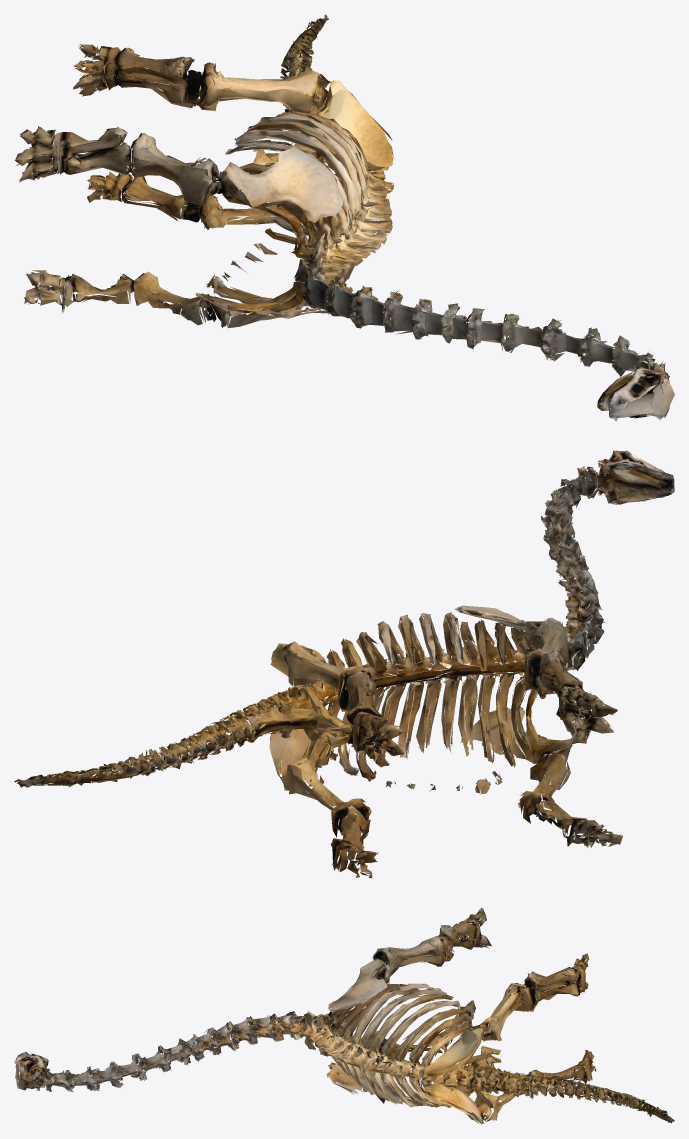
Rendered from dino_fossil.glb.
The picture shows the model from 3 angles, top to bottom: view 1: azimuth 30°, elevation 25°; view 2: azimuth 150°, elevation 25°; view 3: azimuth 270°, elevation 25°; orthographic projection. The views are drawn at different scales.
Parts seen in each view (by area): view 1: dino_fossil; view 2: dino_fossil; view 3: dino_fossil.
Part boxes in pixels (x1=…): dino_fossil: x1=14, y1=14, x2=674, y2=421; dino_fossil: x1=14, y1=450, x2=674, y2=878; dino_fossil: x1=14, y1=908, x2=674, y2=1124.
Bounding box in the file's own units: 5.21 × 1.95 × 9.41.
1 material, 1 textured.
